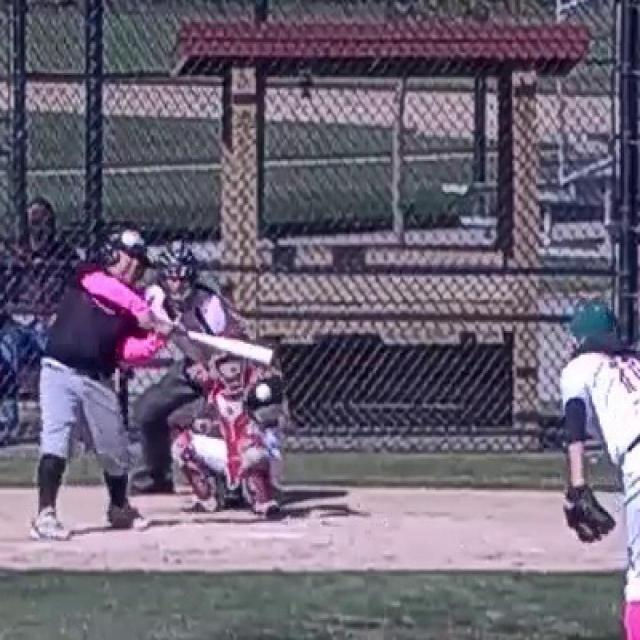baseball: (257, 386, 270, 400)
